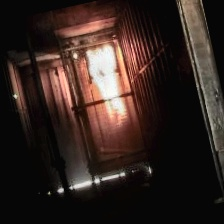fire: (84, 47, 135, 126)
